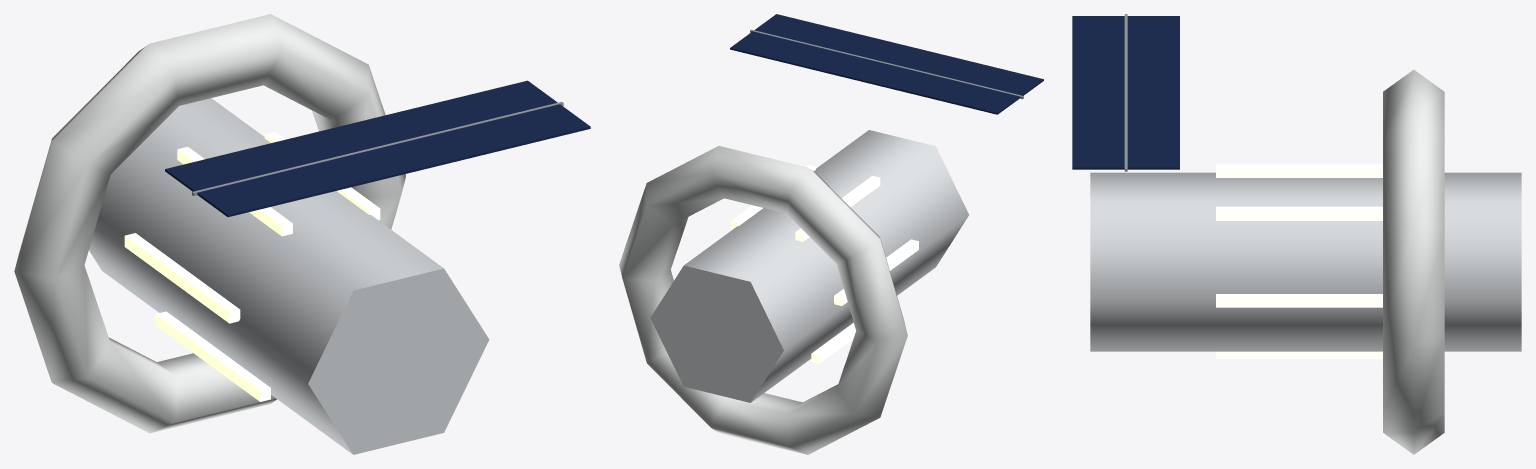
File: space_orbital_habitat_t1_lod1.glb
The picture shows the model from 3 angles, left to right: view 1: azimuth 30°, elevation 25°; view 2: azimuth 150°, elevation 25°; view 3: azimuth 270°, elevation 25°; orthographic projection. The views are drawn at different scales.
Parts seen in each view (by area): view 1: body, solar_0; view 2: body, solar_0; view 3: body, solar_0.
Boxes of the visible parts, x1,y1,x2,y2 form: body: (14,14,489,454); solar_0: (165,80,590,217); body: (619,130,968,454); solar_0: (730,14,1043,114); body: (1090,69,1521,454); solar_0: (1072,14,1179,171).
Size of the model in its own units: 10.8 by 10.38 by 12.5.
